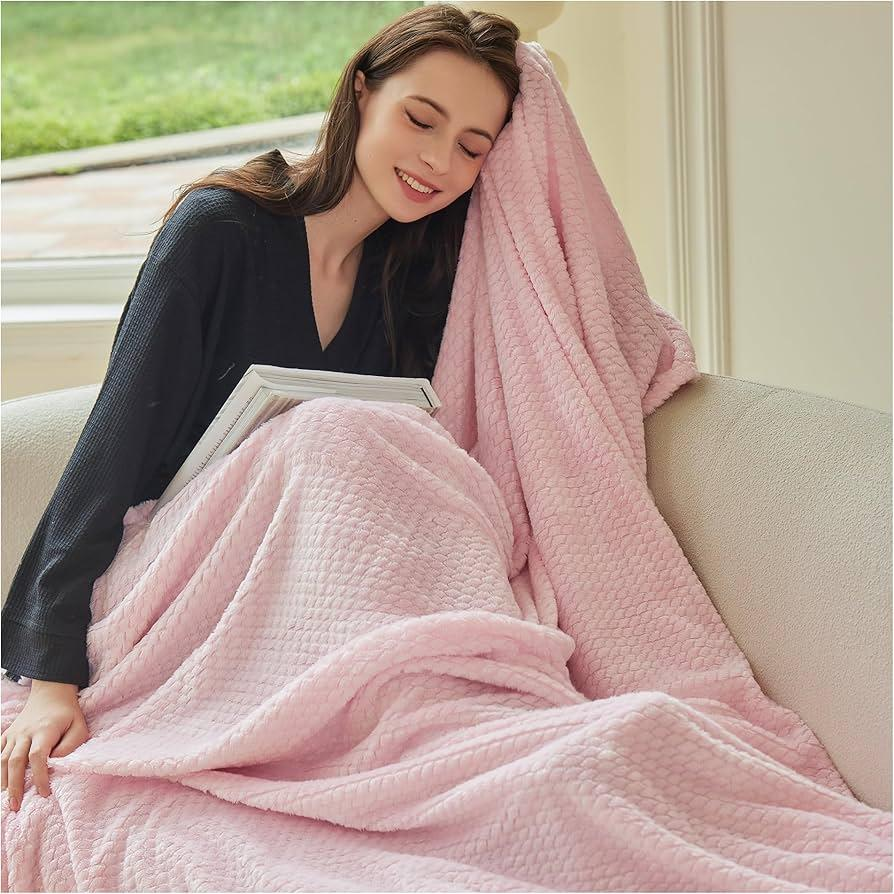blanket: (0, 38, 894, 894)
long sleeve shirt: (1, 146, 474, 691)
